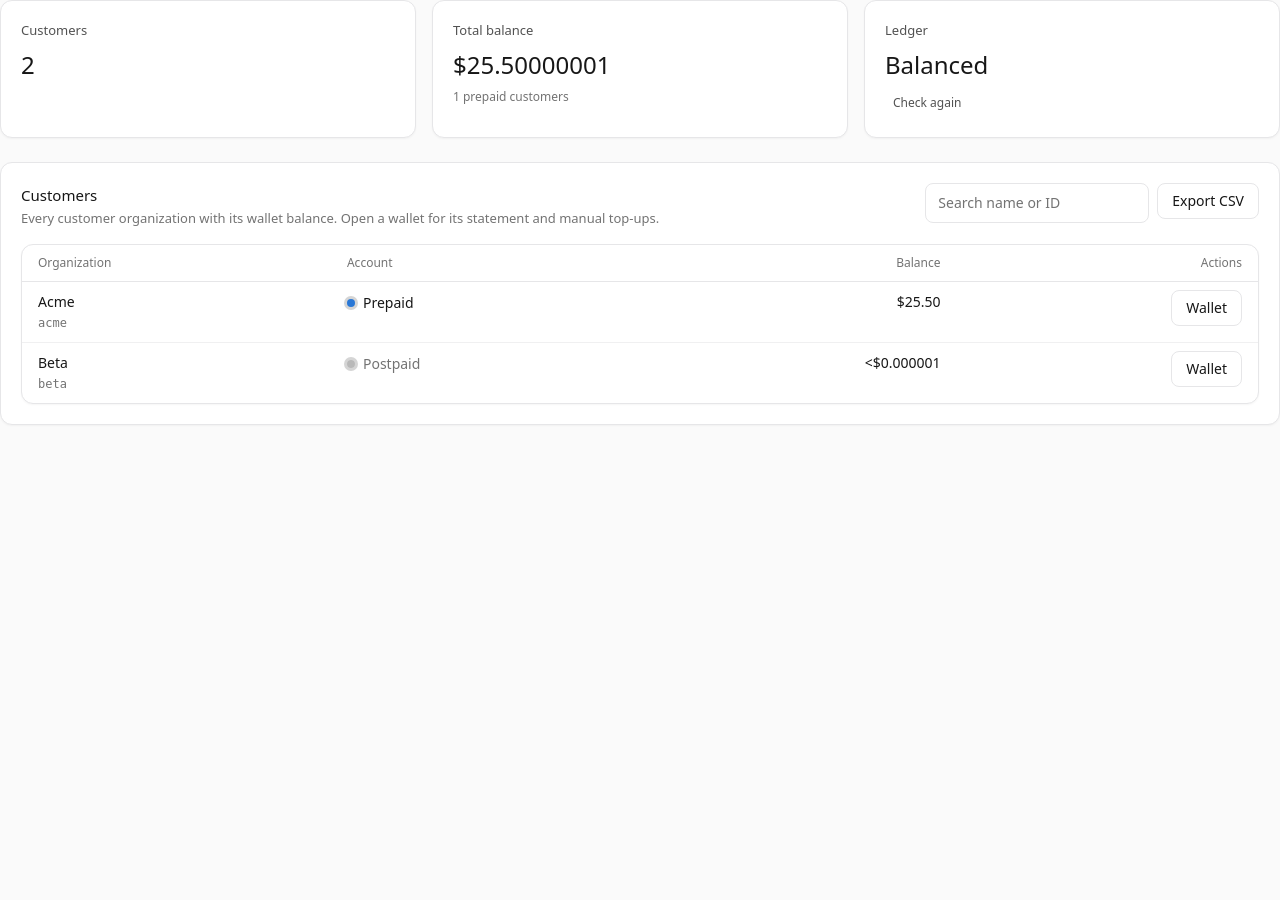
Test case: billing customers and wallets (card 25.1) › is read-only without billing:write
Click the button with aria-label "Wallet of Acme" at (1207, 308), box 1171,290 -> 1242,326
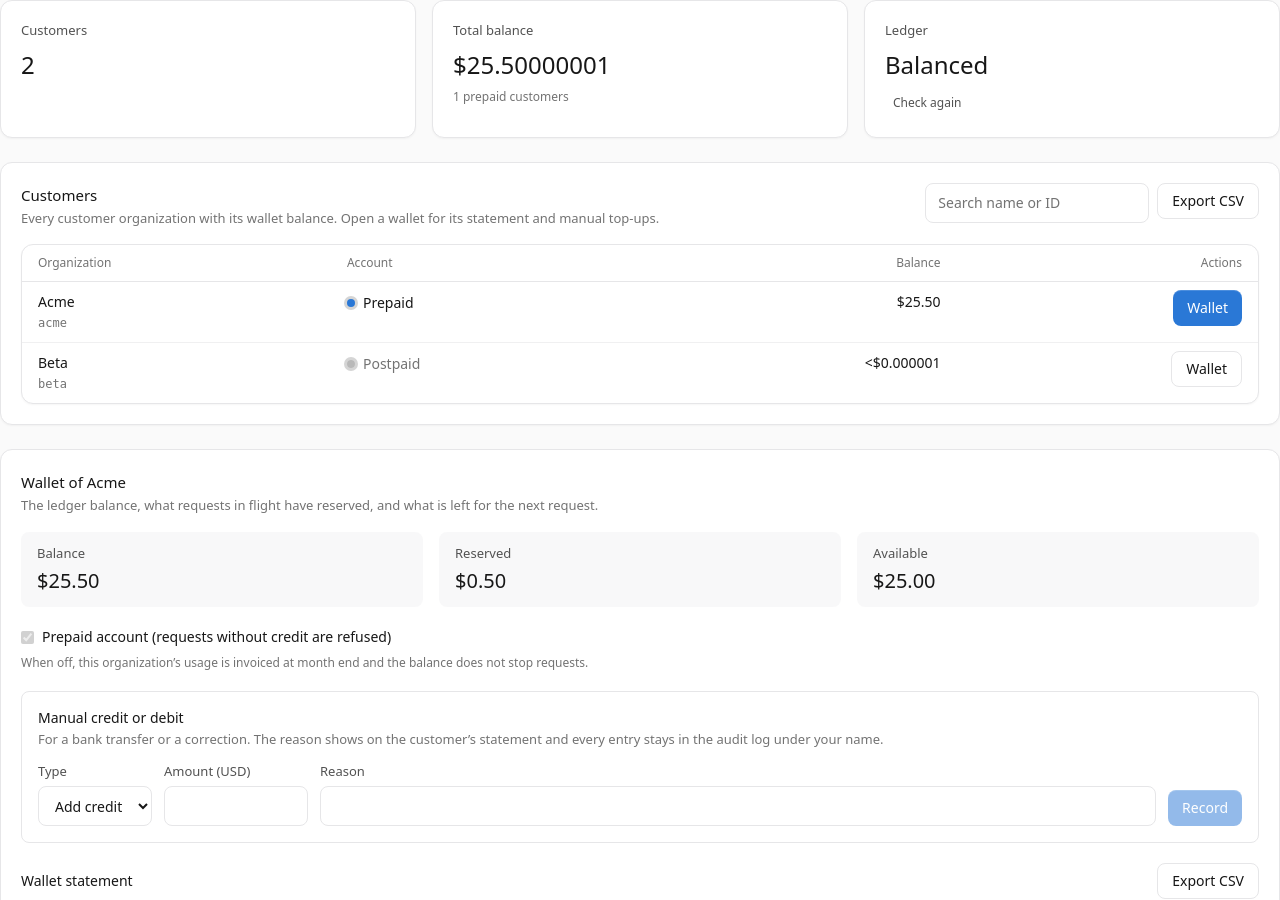
Expected: the checkbox labelled "Prepaid account (requests without credit are refused)" is disabled, 21,630 -> 34,644
